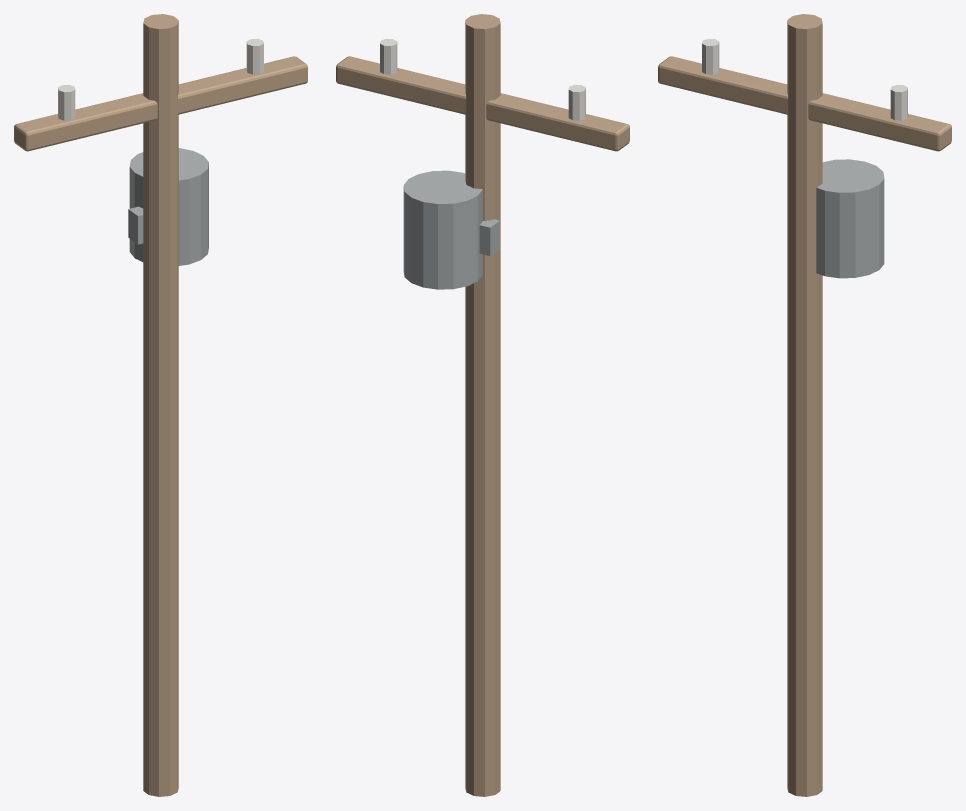
Rendered from utility-pole.glb.
The picture shows the model from 3 angles, left to right: view 1: azimuth 30°, elevation 25°; view 2: azimuth 150°, elevation 25°; view 3: azimuth 330°, elevation 25°; orthographic projection.
Visible parts, largest first — view 1: pole, crossarm, transformer, insulator_0.9, insulator_-0.9, transformer_bracket; view 2: pole, transformer, crossarm, transformer_bracket, insulator_0.9, insulator_-0.9; view 3: pole, crossarm, transformer, insulator_-0.9, insulator_0.9.
Part boxes in pixels (x1,y1,x2,y2): pole: (143,14,178,796); crossarm: (14,56,307,151); transformer: (129,148,208,265); insulator_0.9: (246,38,263,74); insulator_-0.9: (58,85,75,120); transformer_bracket: (128,206,143,244); pole: (465,14,500,796); transformer: (403,170,482,289); crossarm: (336,56,629,151); transformer_bracket: (479,219,499,255); insulator_0.9: (380,38,397,74); insulator_-0.9: (568,85,585,120); pole: (787,14,822,796); crossarm: (658,56,951,151); transformer: (816,159,884,278); insulator_-0.9: (702,38,719,74); insulator_0.9: (890,85,907,120).
Bounding box in the file's own units: 2.7 × 7 × 0.74.
